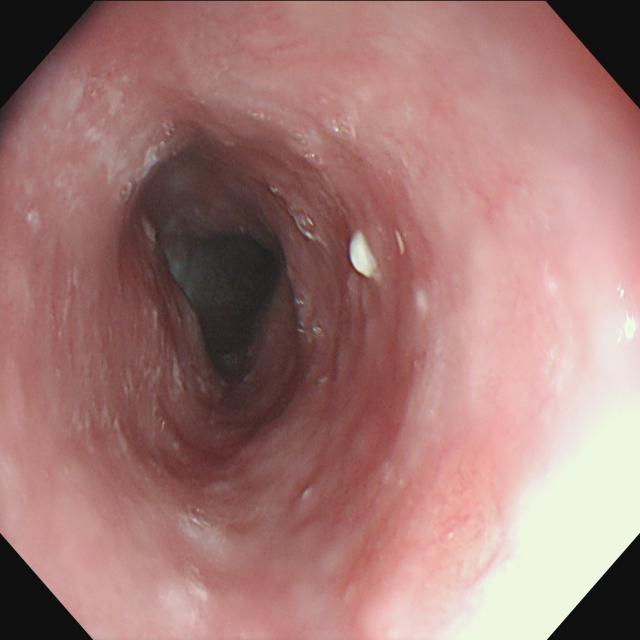E: (157, 227, 282, 387)
J: (349, 230, 381, 284)
T: (293, 293, 328, 342), (291, 201, 324, 247), (184, 503, 215, 535), (114, 182, 137, 208), (300, 147, 324, 169)
